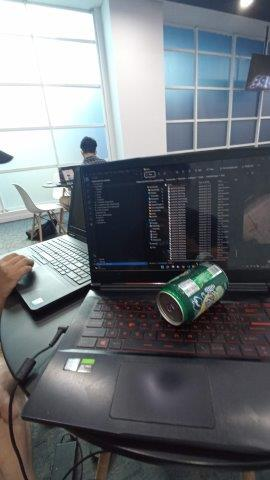kaleng: (156, 263, 229, 325)
